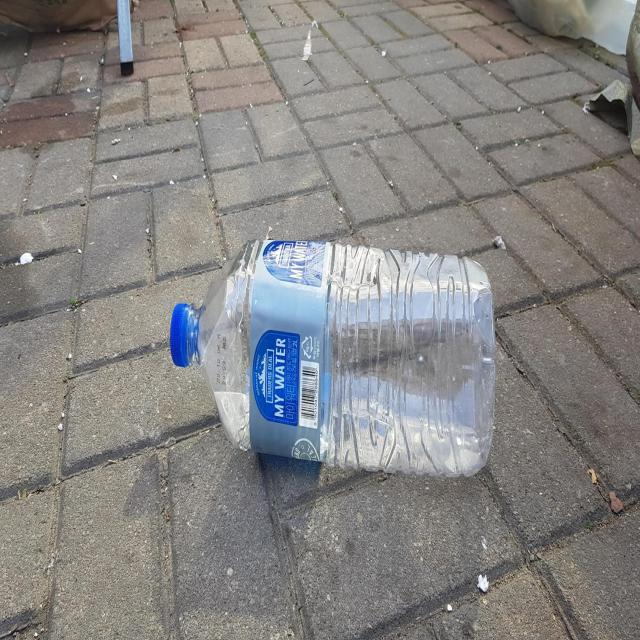plastic: (170, 238, 496, 476)
